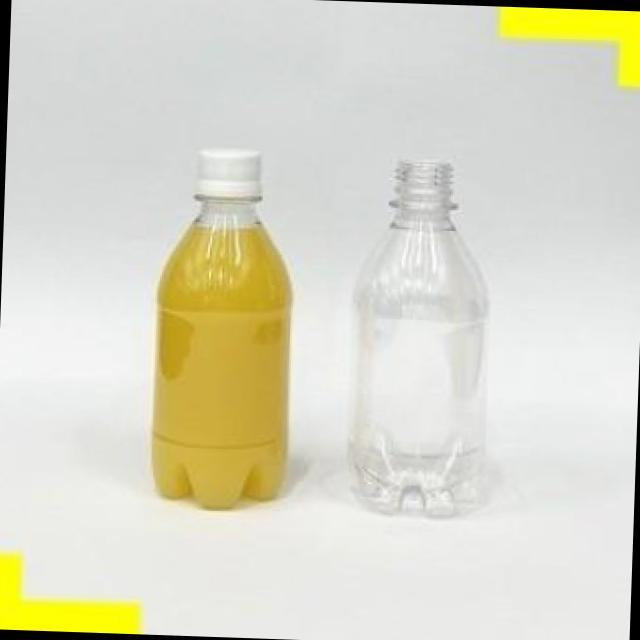good: (120, 120, 324, 540), (316, 142, 516, 536)
